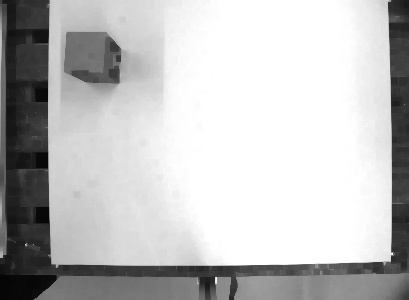b4: (62, 28, 124, 85)
